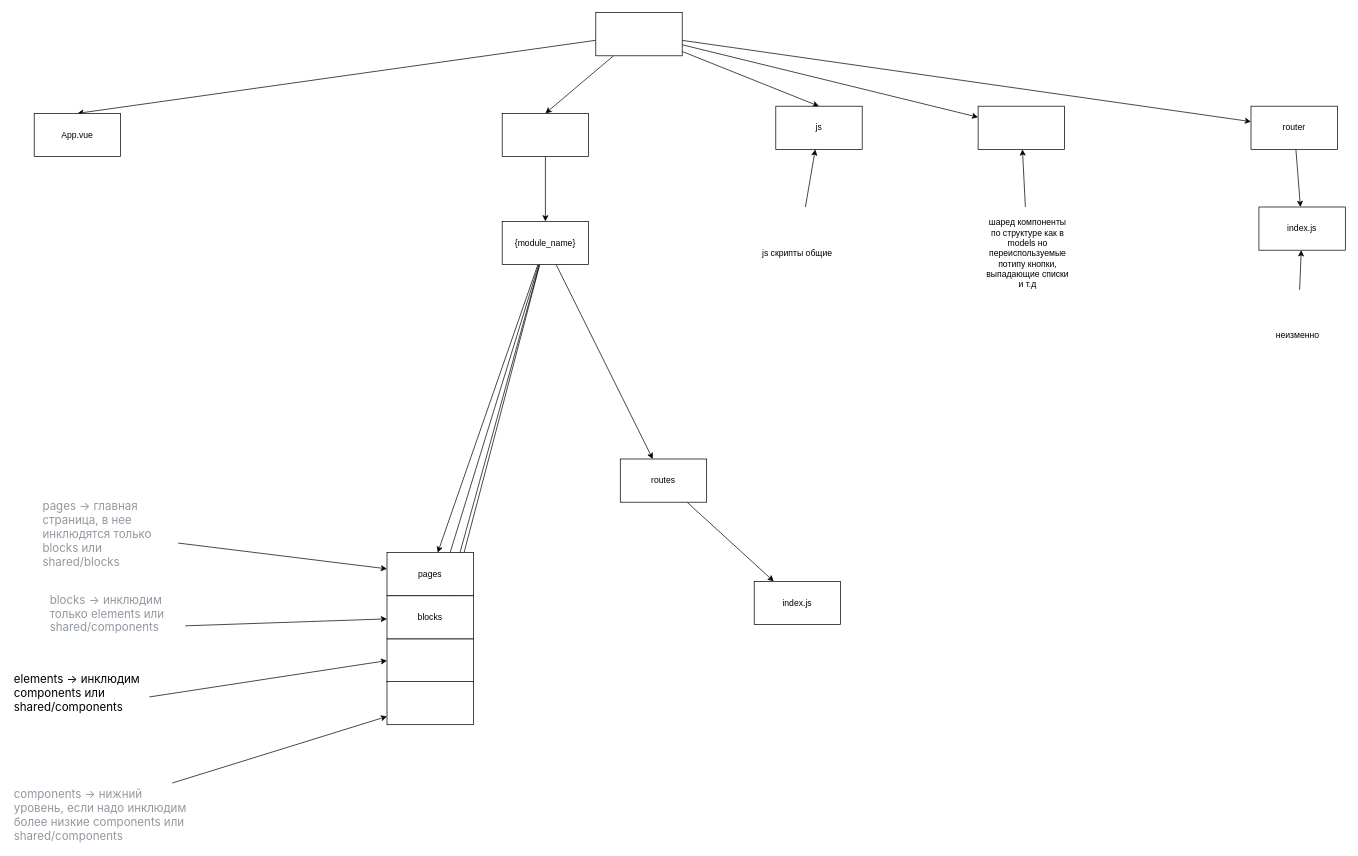
This 1358x856 diagram has some shape labels left out. The shapes that lost their labels are listed below. From the top down, each one's box as (x1, y1, x2, y2) in pixels, then its label:
(595, 12, 682, 56): src
(501, 113, 589, 157): modules
(977, 105, 1065, 149): shared
(386, 638, 473, 682): elements
(386, 681, 473, 725): components
